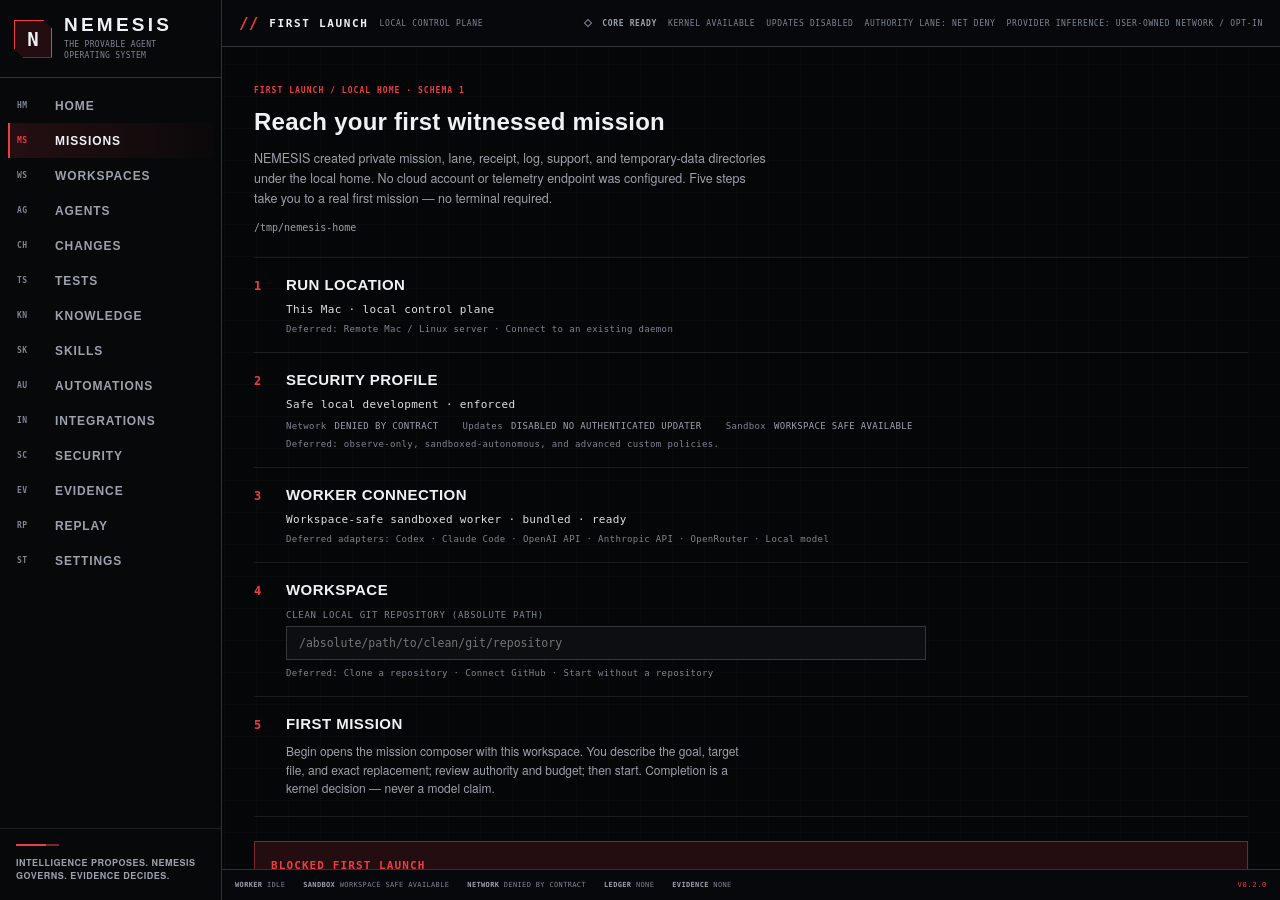
Test: NEMESIS Desktop production surface › keeps first launch fail-closed when a bundled component is not ready
This screenshot has width=1280, height=900.
Expected: the heading "Reach your first witnessed mission" is shown, [254,108,665,135]
Type "/tmp/repository" into the field named "Workspace path".
click(606, 643); type("/tmp/repository")  # box [286,626,926,660]
(page scrolled)
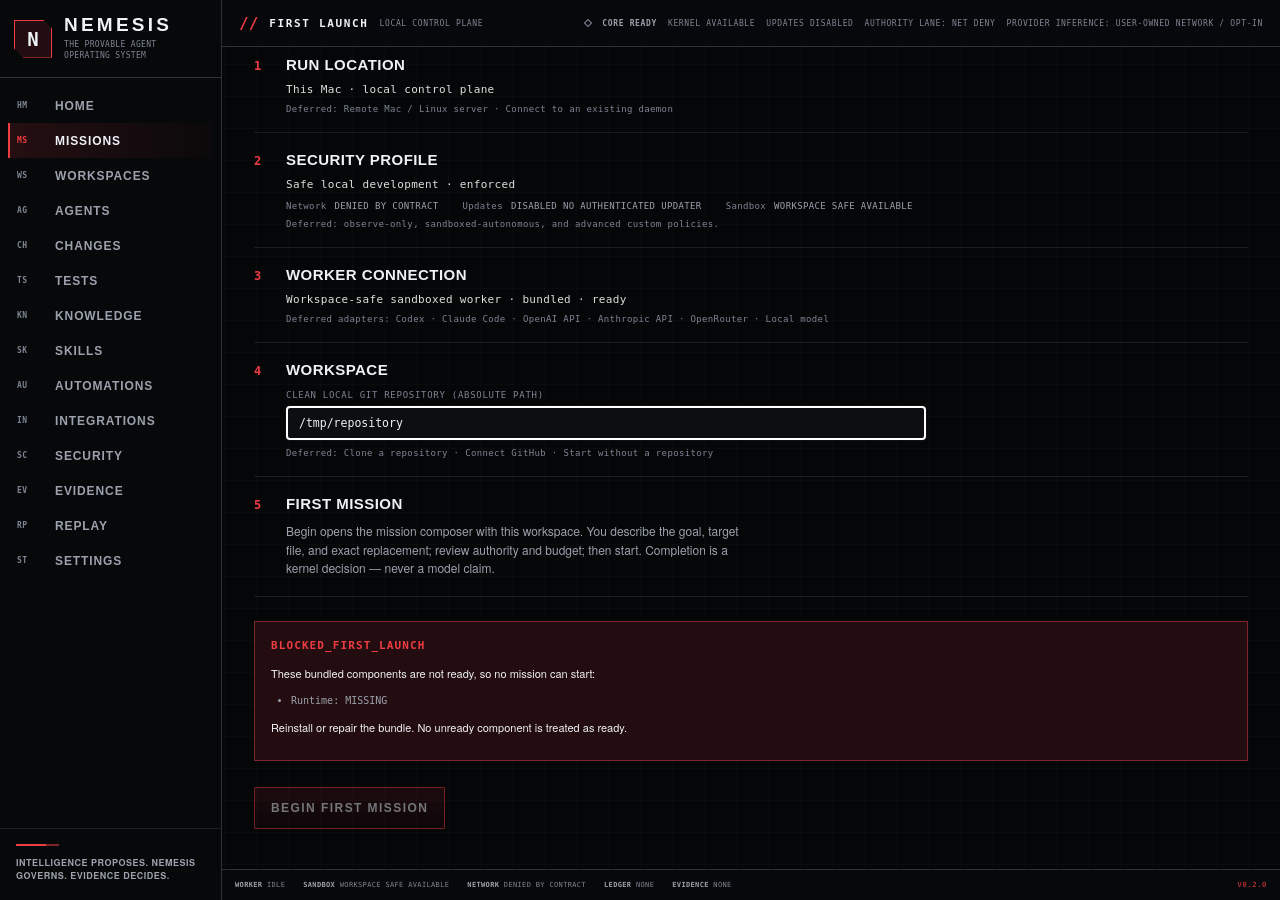
Expected: the message shows "BLOCKED_FIRST_LAUNCH", [271,639,426,652]
Now the button "Begin first mission" is disabled, box [254,787,445,829]
Now the message shows "Runtime: MISSING", box [254,621,1248,761]
